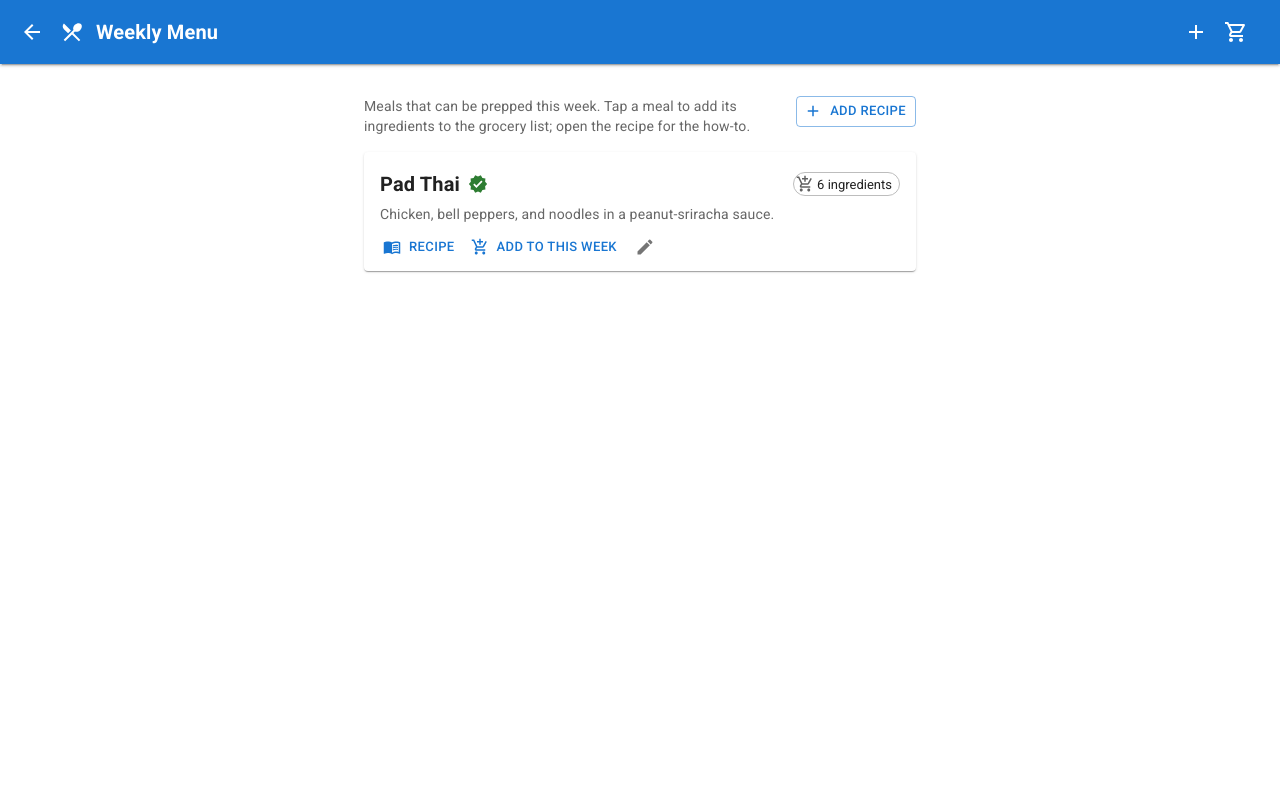
adding a recipe › will not submit an empty box
Click the button "Add recipe" at point(856, 111), box [796, 96, 916, 127]
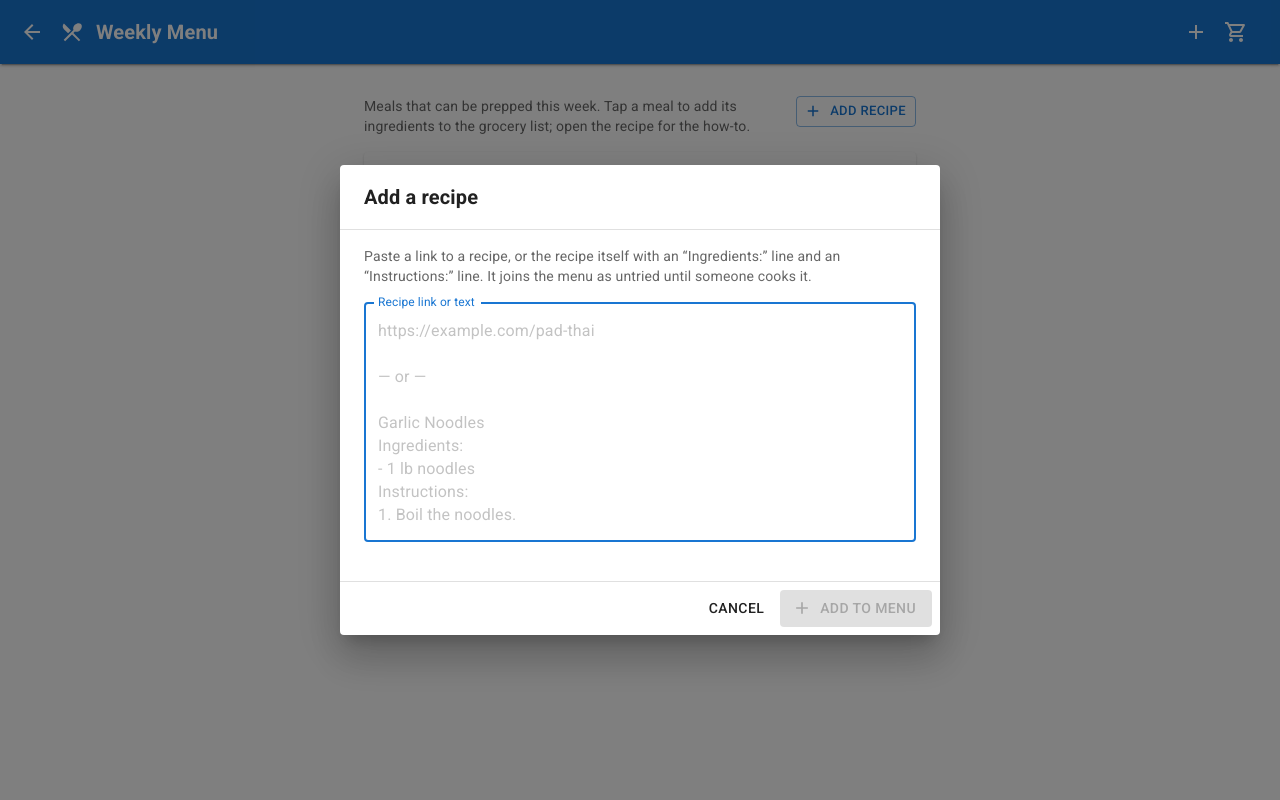
Result: the button "Add to menu" is disabled at [780, 590, 932, 627]
